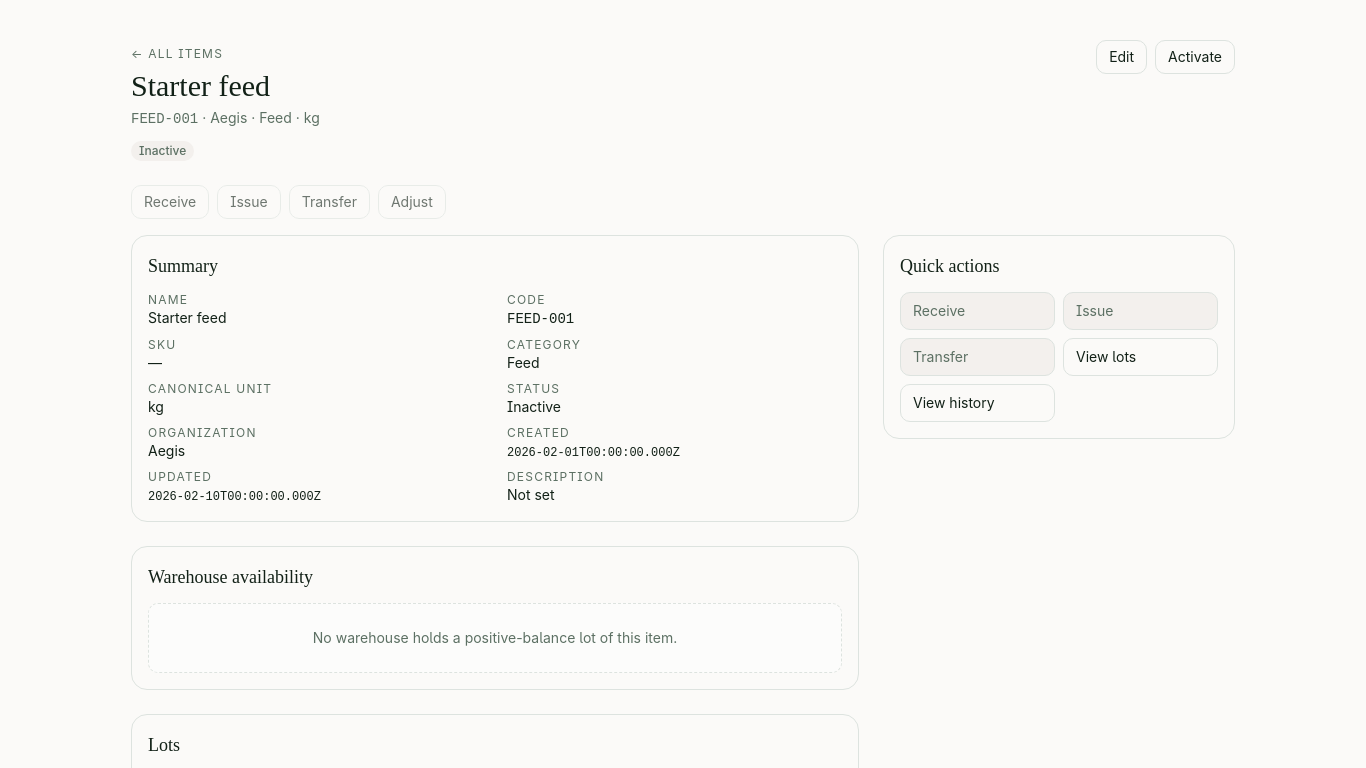
Test: Item edit + lifecycle › activate flow reactivates via PATCH is_active=true
The width and height of the screenshot is (1366, 768).
Click the button with test id "item-header-activate": (1195, 57) [1155, 40, 1235, 74]
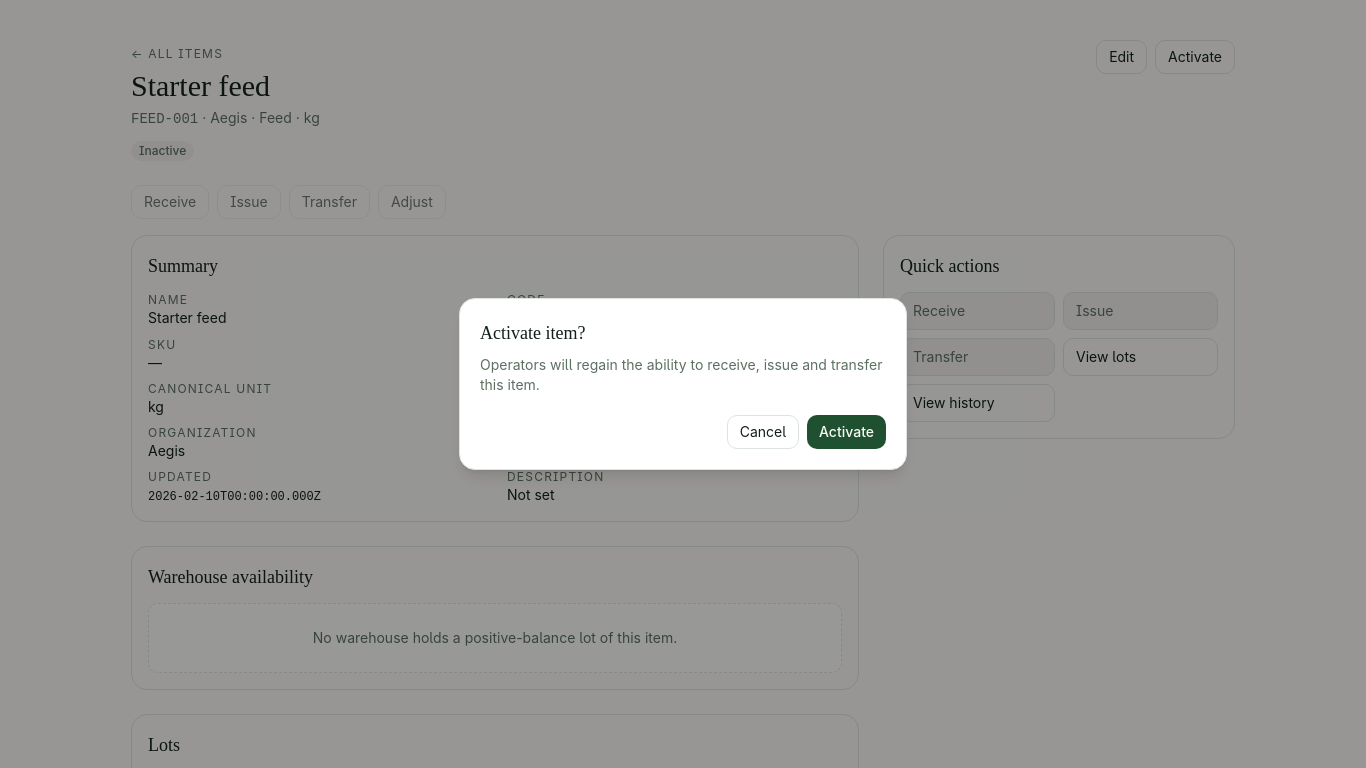
Click the button with test id "item-detail-status-confirm-confirm": (846, 432) [807, 415, 886, 449]
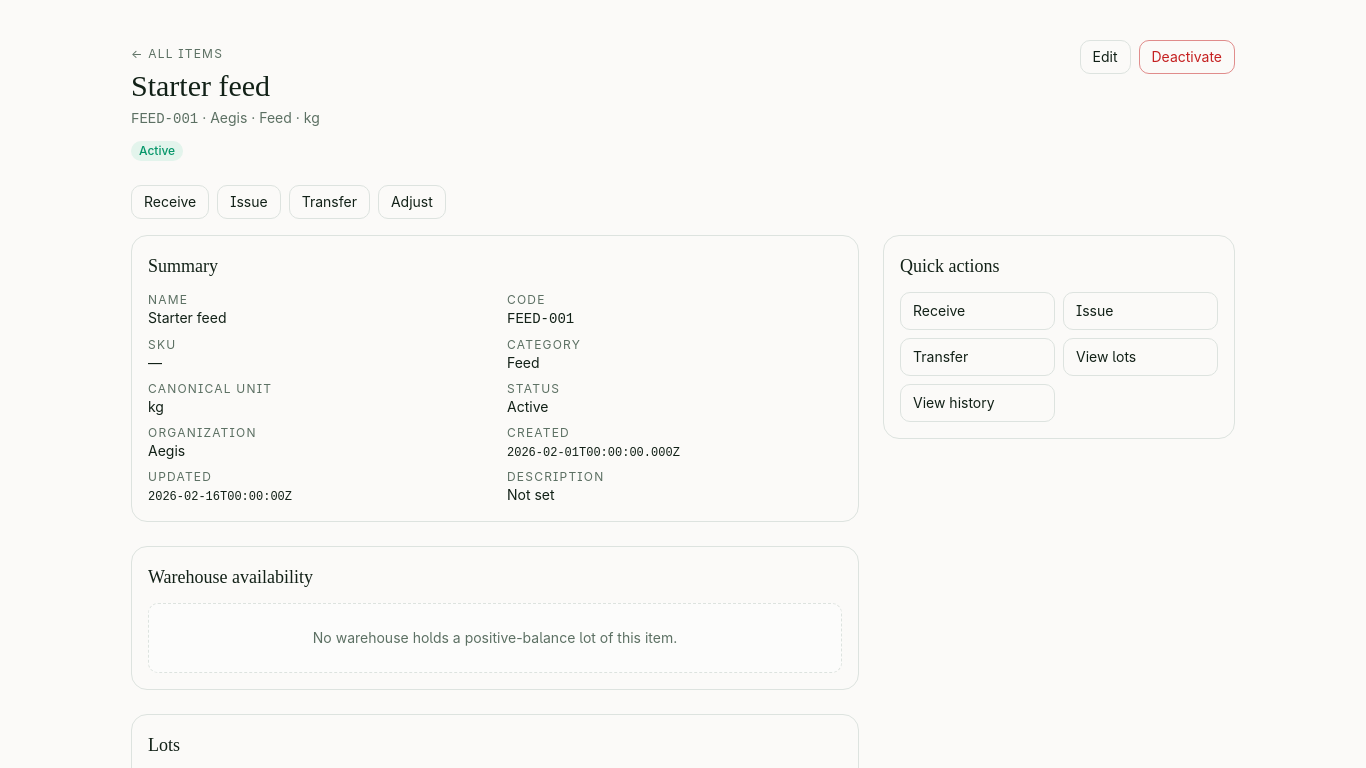
Now the button with test id "item-header-deactivate" is shown, box [1138, 40, 1235, 74]
